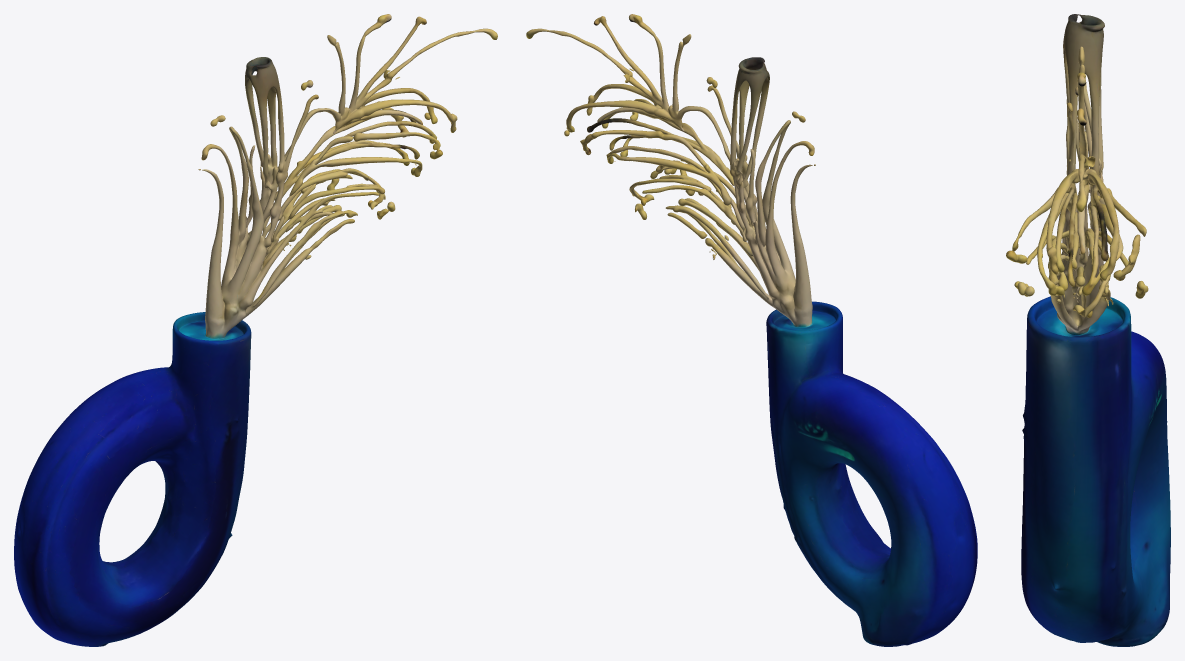
Rendered from twistvase.glb.
3 views of the same model, side by side, from view 1: azimuth 30°, elevation 25°; view 2: azimuth 150°, elevation 25°; view 3: azimuth 270°, elevation 25° (orthographic). The views are drawn at different scales.
Visible parts, largest first — view 1: geometry_0; view 2: geometry_0; view 3: geometry_0.
Boxes of the visible parts, box(x1,y1,x2,y2) form: geometry_0: box(14, 14, 497, 646); geometry_0: box(526, 14, 977, 646); geometry_0: box(1006, 14, 1170, 646).
Bounding box in the file's own units: 0.8654 × 1 × 0.2027.
Materials: 1 (1 with a texture image).
